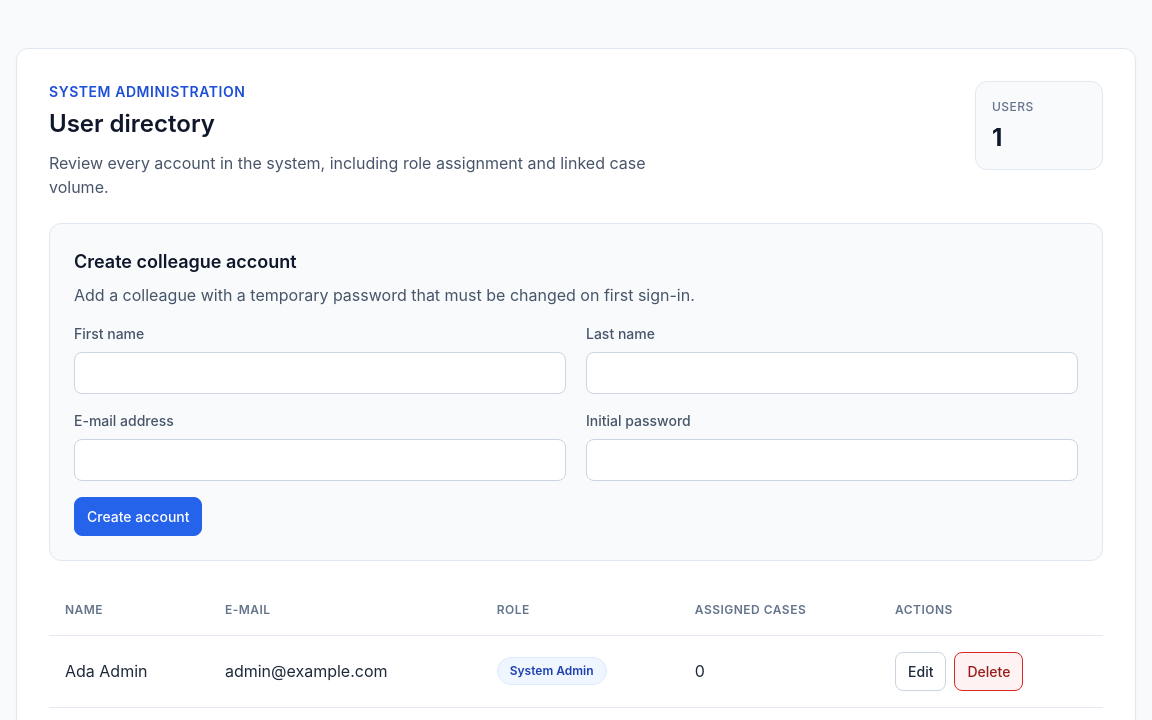
Scenario: admin user list › creates a colleague account and shows a confirmation banner
Check: the heading "User directory" is shown, box [49,109,215,138]
Type "Cole" into the field labelled "First name" at (320, 373), box [74,352,566,394]
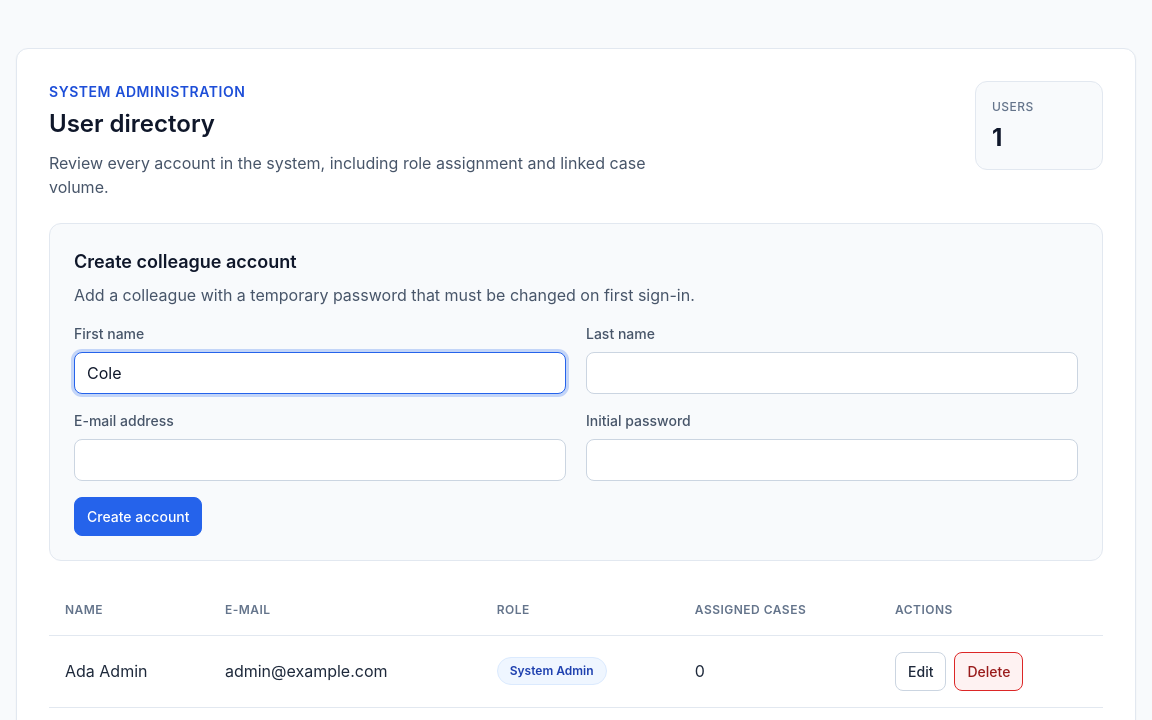
Type "League" into the field labelled "Last name" at (832, 373), box [586,352,1078,394]
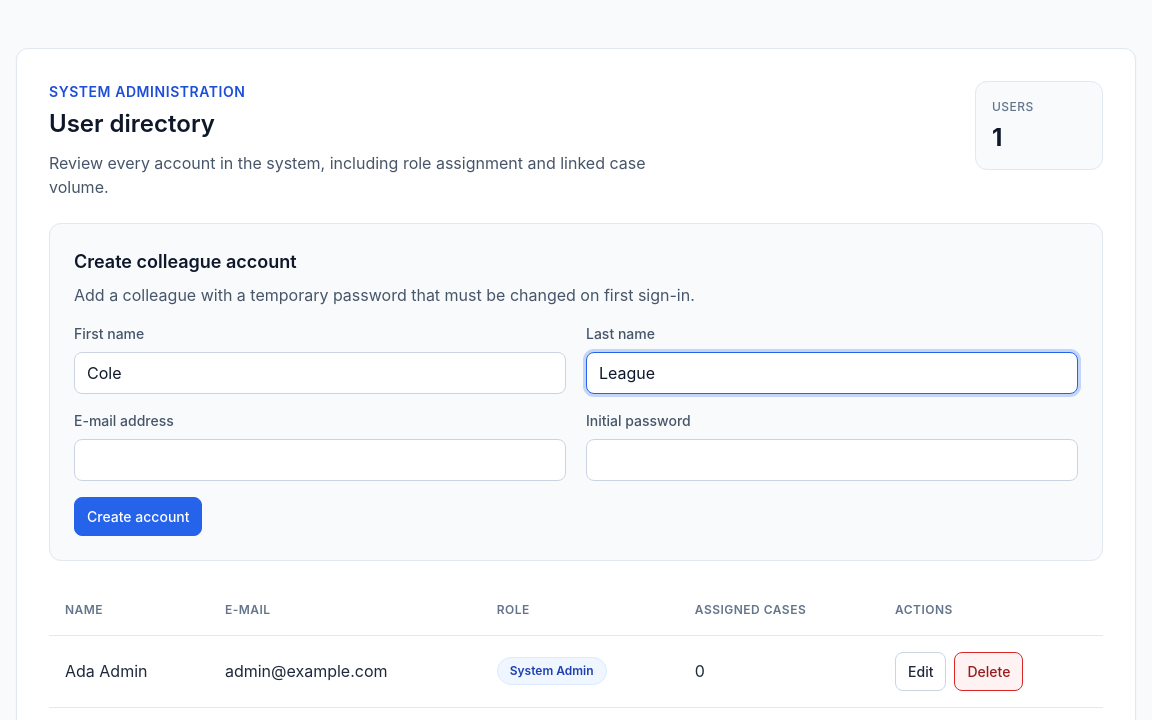
Type "colleague@example.com" into the field labelled "E-mail address" at (320, 460), box [74,439,566,481]
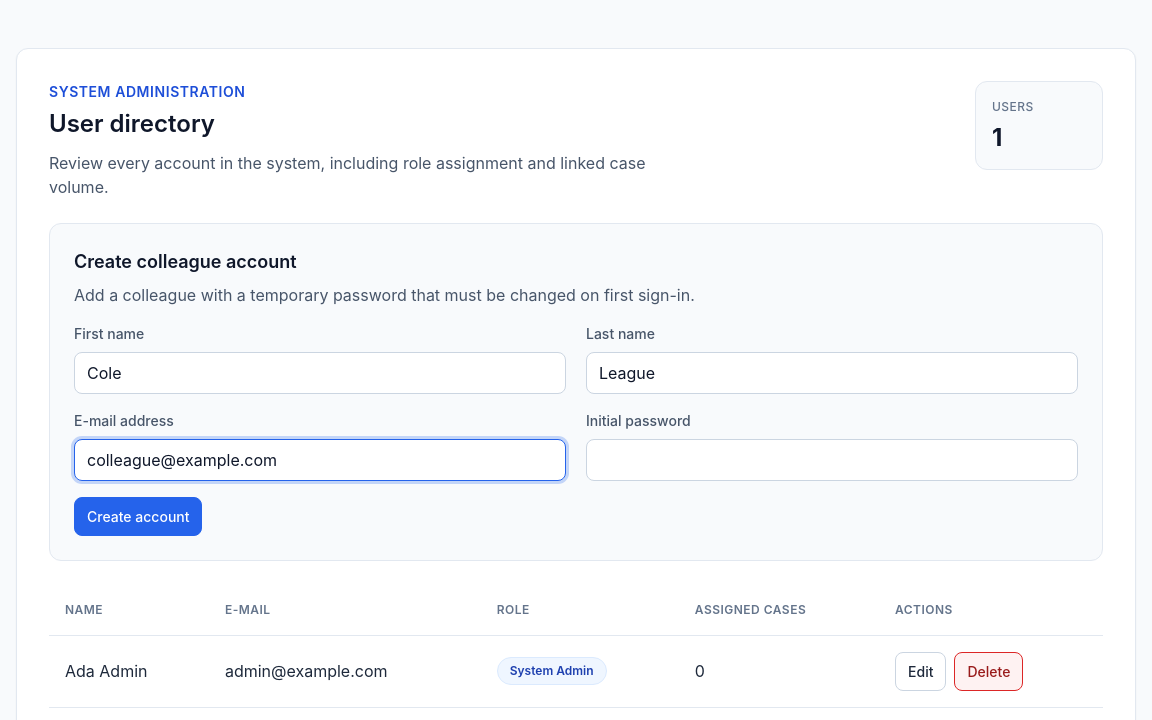
Type "ColleaguePass123!" into the password field labelled "Initial password" at (832, 460), box [586,439,1078,481]
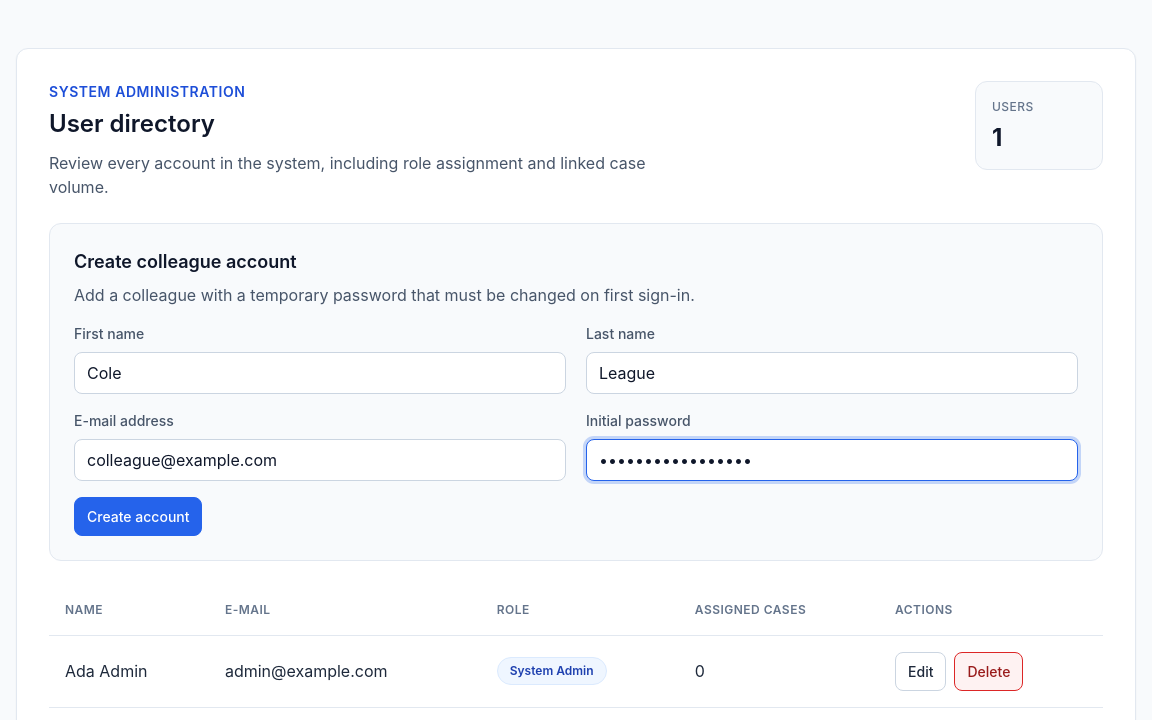
Click the button "Create account" at (138, 516), box [74,497,202,536]
(page scrolled)
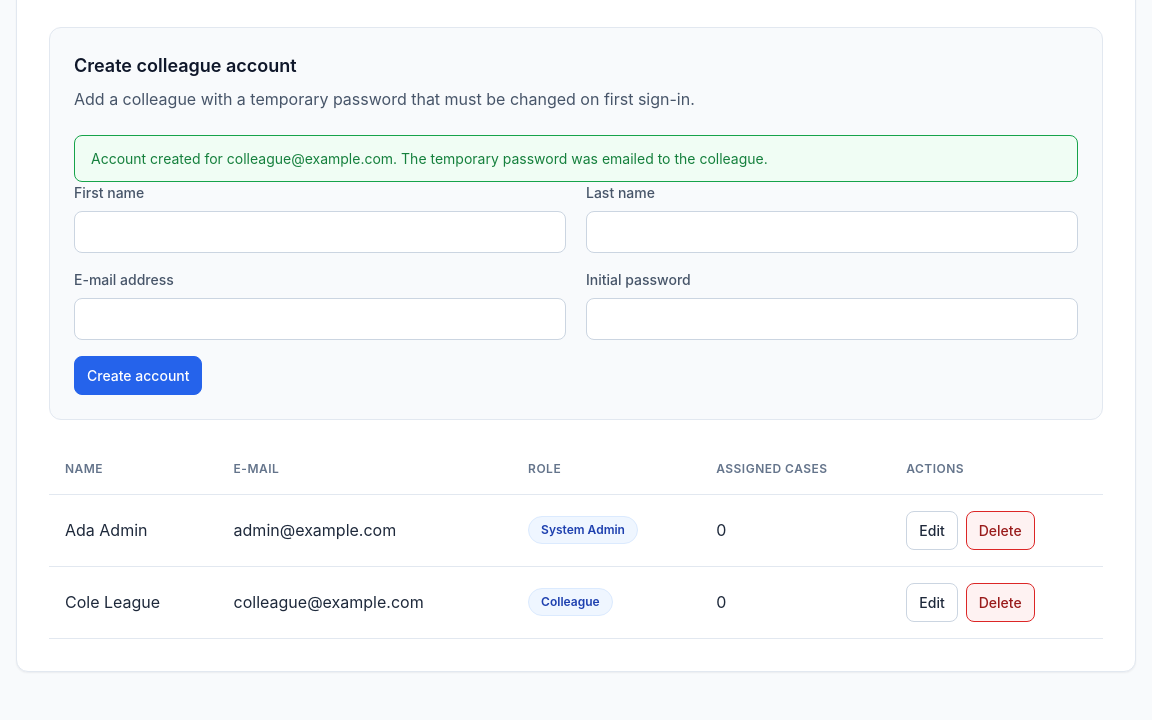
Check: the text "Account created for colleague@example.com" is shown, box [91,150,768,167]
Check: the text "Cole League" is shown, box [49,566,218,638]
